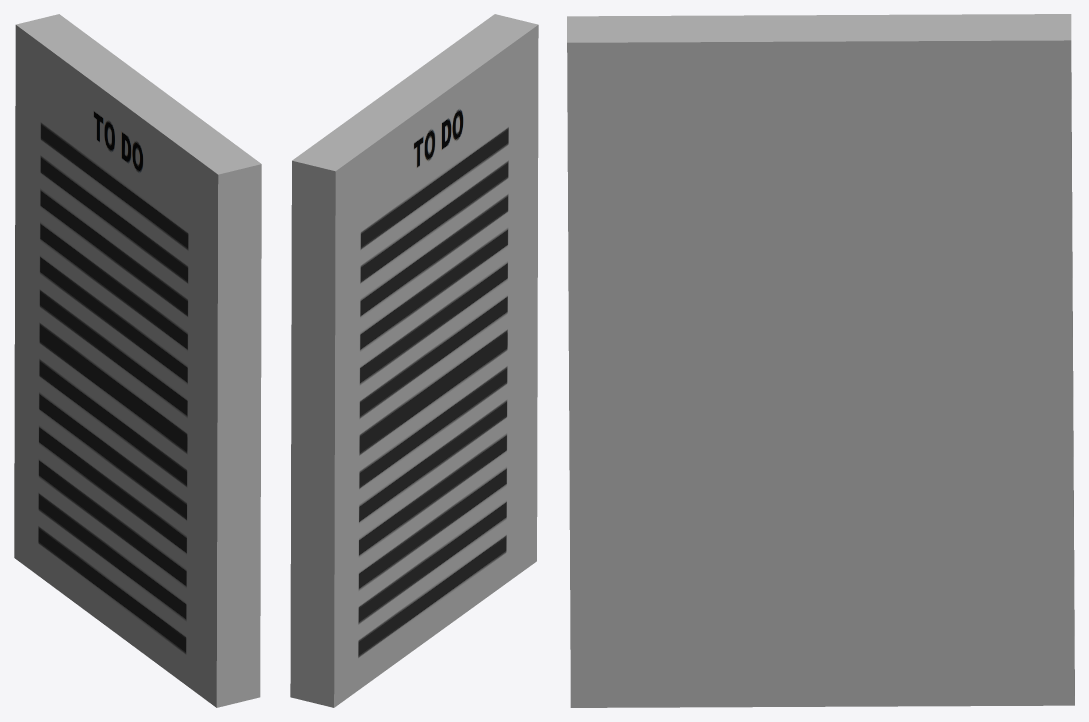
File: Paper1.fbx
3 views of the same model, side by side, from view 1: azimuth 30°, elevation 25°; view 2: azimuth 150°, elevation 25°; view 3: azimuth 270°, elevation 25° (orthographic). The views are drawn at different scales.
Visible parts, largest first — view 1: pCube1; view 2: pCube1; view 3: pCube1.
Part boxes in pixels (box(x1,y1,x2,y2)): pCube1: box(14, 14, 261, 707); pCube1: box(290, 14, 538, 707); pCube1: box(567, 14, 1074, 707).
Bounding box in the file's own units: 0.9433 × 11.09 × 7.65.
Materials: 1 (1 with a texture image).
